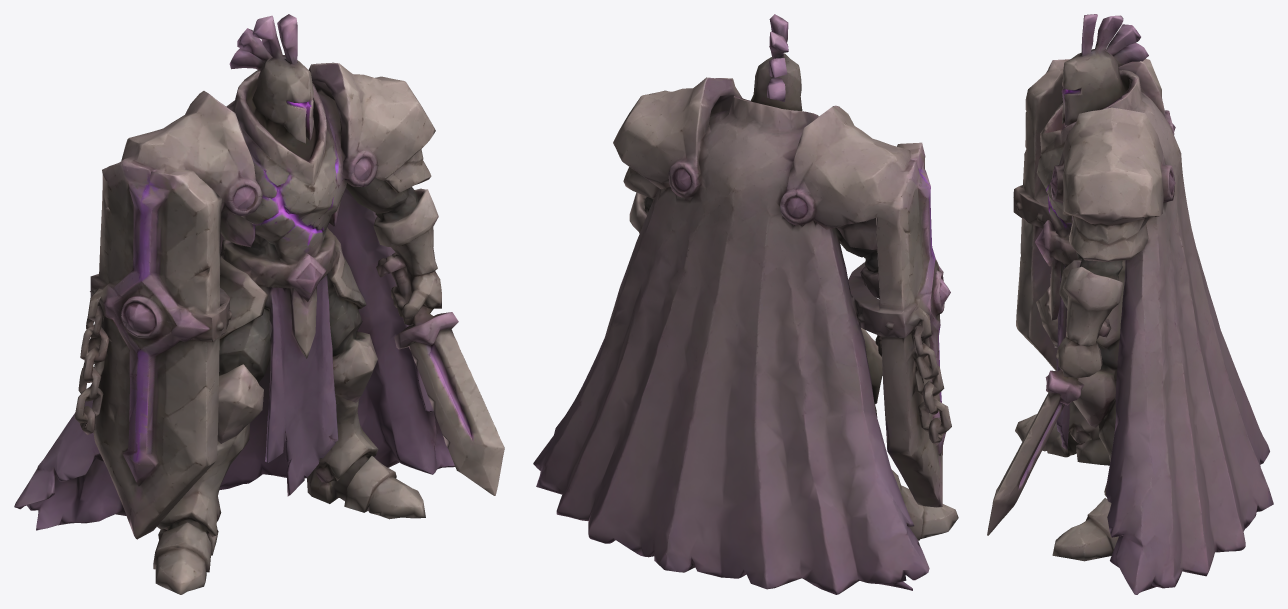
File: boss_twin_warden_violet.glb
3 renders of one model, left to right at view 1: azimuth 30°, elevation 25°; view 2: azimuth 150°, elevation 25°; view 3: azimuth 270°, elevation 25°, orthographic. The views are drawn at different scales.
Parts seen in each view (by area): view 1: tripo_node_1fbdfffd-0a30-497f-a0d0-5138aaca23d7; view 2: tripo_node_1fbdfffd-0a30-497f-a0d0-5138aaca23d7; view 3: tripo_node_1fbdfffd-0a30-497f-a0d0-5138aaca23d7.
Boxes of the visible parts, left/top/right/bottom form: tripo_node_1fbdfffd-0a30-497f-a0d0-5138aaca23d7: left=14, top=14, right=504, bottom=594; tripo_node_1fbdfffd-0a30-497f-a0d0-5138aaca23d7: left=533, top=14, right=958, bottom=594; tripo_node_1fbdfffd-0a30-497f-a0d0-5138aaca23d7: left=987, top=14, right=1273, bottom=594.
Size of the model in its own units: 0.904 by 1 by 0.5318.
Materials: 1 (1 with a texture image).
